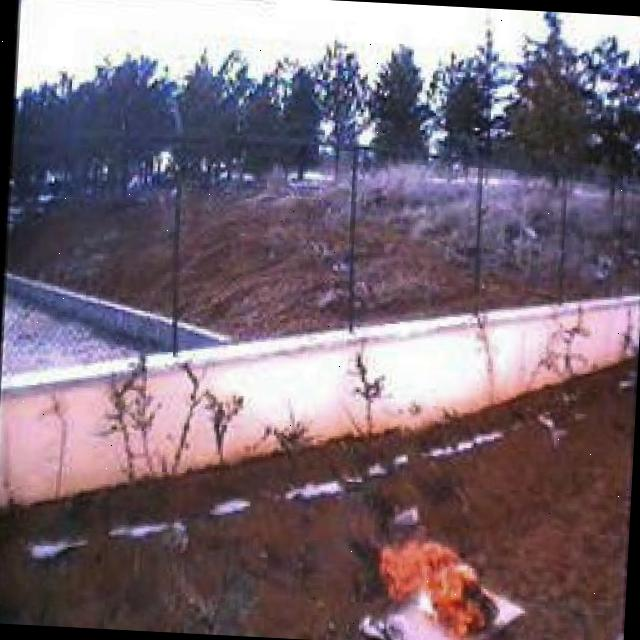fire: (365, 522, 515, 640)
